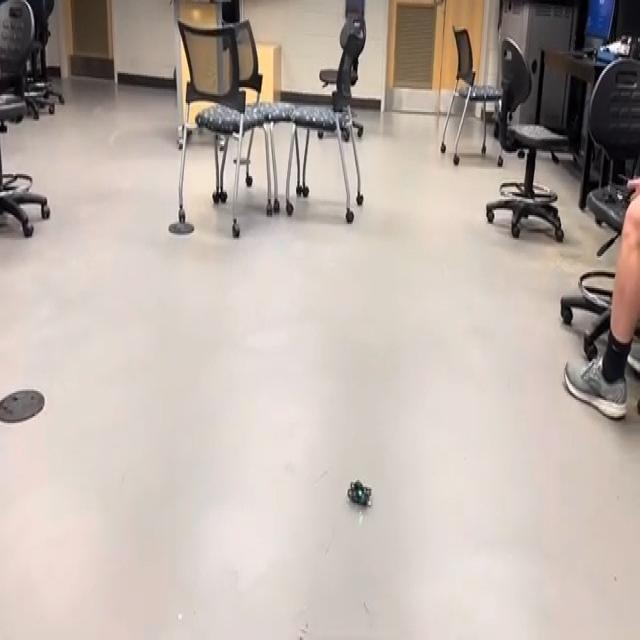drone: (341, 469, 380, 520)
